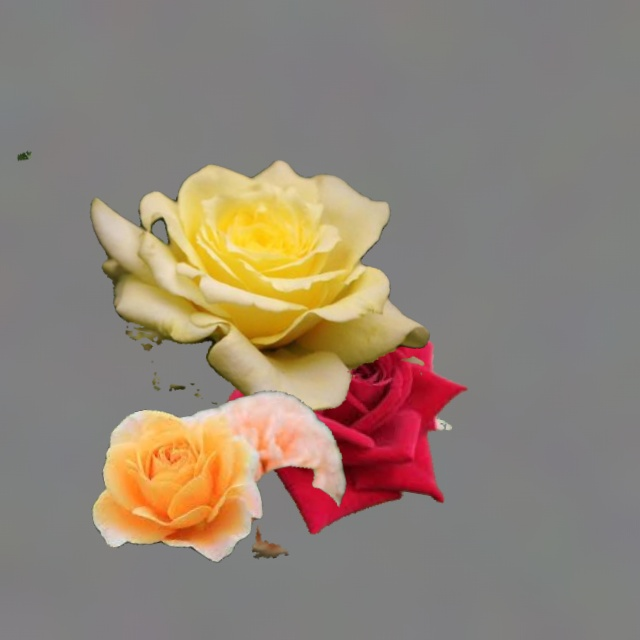rose: (90, 160, 429, 412), (213, 281, 467, 533), (92, 391, 346, 561)
ylang-ylang: (18, 152, 31, 160)
